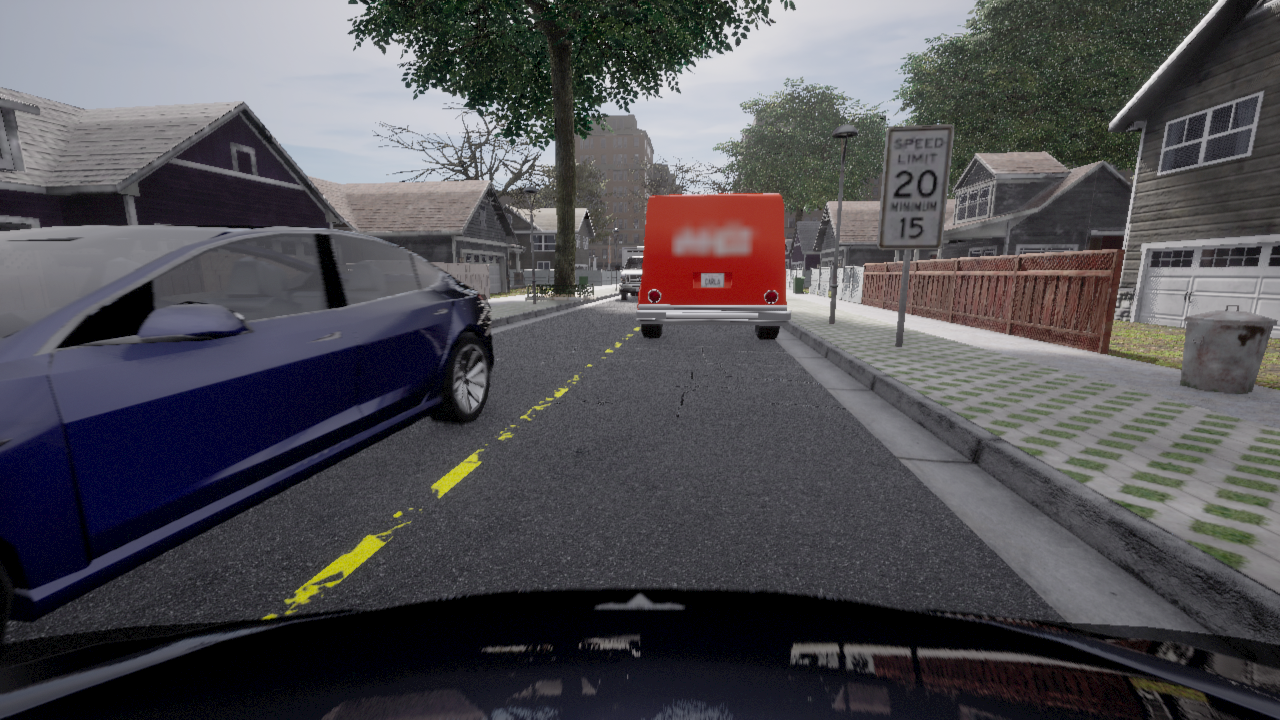cyclist: (0, 225, 493, 644), (0, 588, 1279, 719), (636, 193, 791, 339), (615, 247, 643, 299)
